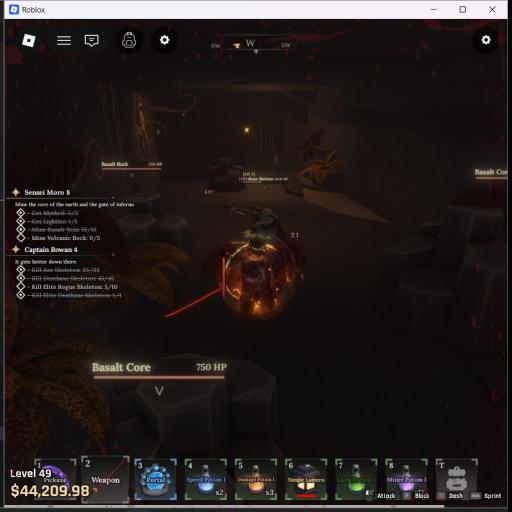player: (201, 232, 304, 319)
rock: (78, 353, 282, 462), (379, 205, 506, 351), (119, 193, 193, 256), (207, 158, 244, 192)
